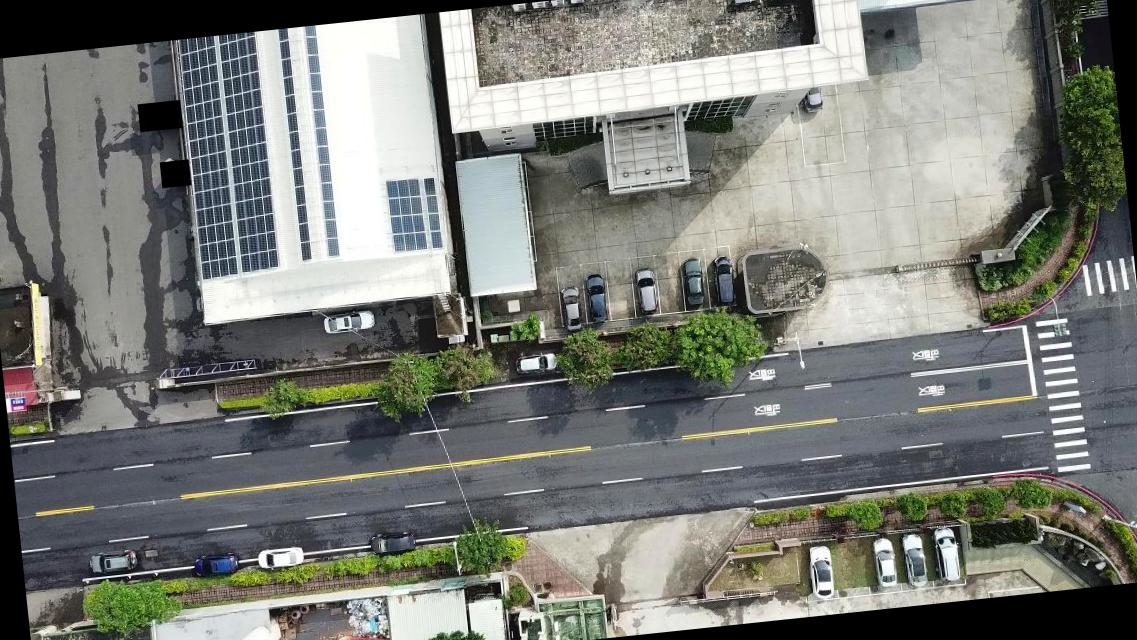vehicle: (930, 525, 962, 584), (900, 529, 930, 585), (807, 542, 837, 597), (86, 546, 138, 574), (369, 528, 419, 557), (710, 252, 737, 304), (323, 308, 377, 334), (872, 536, 898, 588), (633, 264, 660, 314), (584, 273, 610, 324), (514, 349, 561, 375), (192, 550, 239, 576), (257, 544, 305, 569), (681, 257, 704, 306), (559, 284, 583, 330), (800, 84, 822, 114)
